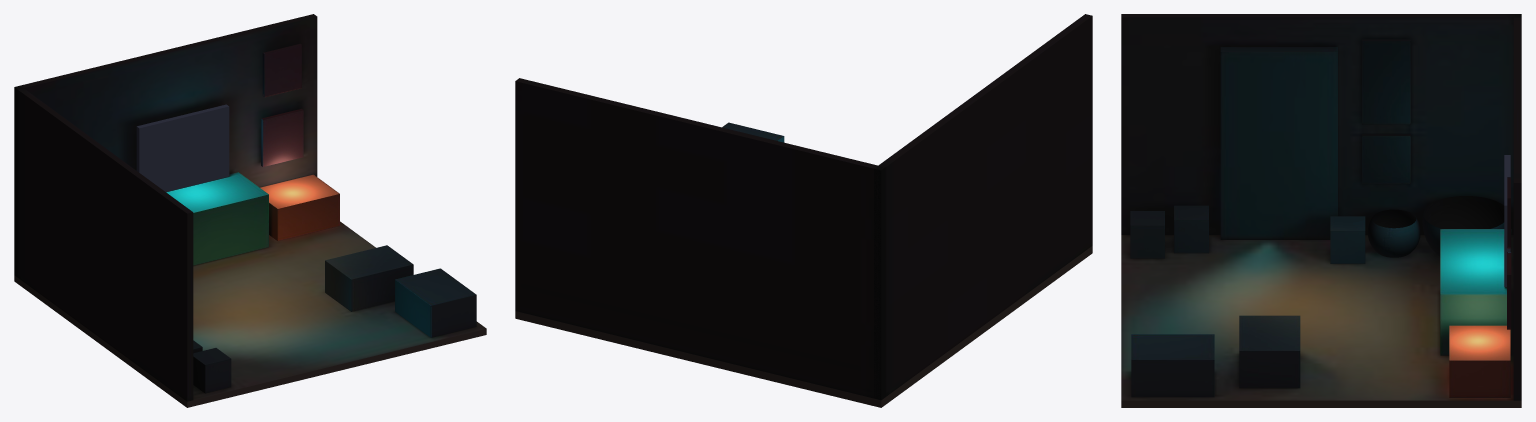
File: foyer_entrance.glb
The picture shows the model from 3 angles, left to right: view 1: azimuth 30°, elevation 25°; view 2: azimuth 150°, elevation 25°; view 3: azimuth 270°, elevation 25°; orthographic projection. The views are drawn at different scales.
Visible parts, largest first — view 1: wall_L, floor, wall_R, projector, desk big, pot 2, pot 1, desk small, picture 1, picture 2, pot 3; view 2: wall_R, wall_L, floor; view 3: wall_L, floor, door, desk big, pot 2, pot 1, desk small, picture 3, wall_R, pot 7, picture 4, pot 6 (+5 smaller).
Boxes of the visible parts, left/top/right/bottom form: wall_L: left=14, top=86, right=193, bottom=401; floor: left=14, top=221, right=486, bottom=407; wall_R: left=14, top=14, right=317, bottom=277; projector: left=136, top=104, right=229, bottom=191; desk big: left=166, top=172, right=268, bottom=265; pot 2: left=395, top=268, right=476, bottom=337; pot 1: left=325, top=245, right=413, bottom=311; desk small: left=260, top=174, right=339, bottom=240; picture 1: left=261, top=108, right=303, bottom=166; picture 2: left=262, top=43, right=301, bottom=97; pot 3: left=193, top=348, right=231, bottom=393; wall_R: left=515, top=78, right=885, bottom=400; wall_L: left=874, top=14, right=1092, bottom=399; floor: left=515, top=246, right=1092, bottom=407; wall_L: left=1121, top=14, right=1521, bottom=234; floor: left=1121, top=235, right=1521, bottom=407; door: left=1220, top=47, right=1337, bottom=239; desk big: left=1440, top=229, right=1511, bottom=355; pot 2: left=1131, top=334, right=1214, bottom=397; pot 1: left=1239, top=315, right=1300, bottom=388; desk small: left=1449, top=325, right=1510, bottom=397; picture 3: left=1362, top=39, right=1410, bottom=124; wall_R: left=1513, top=17, right=1521, bottom=400; pot 7: left=1422, top=196, right=1504, bottom=256; picture 4: left=1362, top=134, right=1410, bottom=183; pot 6: left=1367, top=209, right=1420, bottom=257.
Size of the model in its own units: 15 by 9.3 by 15.
Materials: 10 (10 with a texture image).
